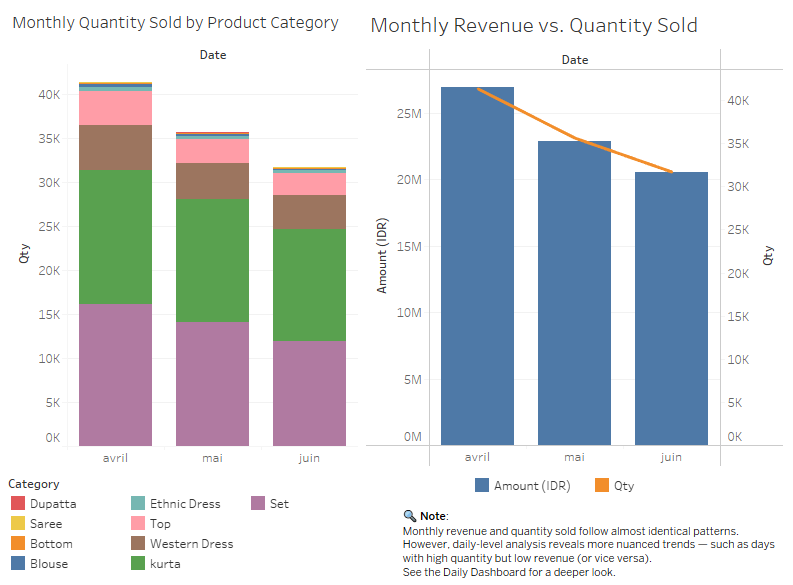

Layout of this report page (visuals, bound fields, positions):
{"tool":"tableau","page":{"name":"Monthly overview","canvas":[800,600],"ordinal":3},"visuals":[{"type":"worksheet","title":"Monthly Quantity Sold by Product Category","mark":"Bar","rows":["Qty"],"cols":["Date"],"box":[8,8,358,469]},{"type":"worksheet","title":"Monthly Revenue vs. Quantity Sold","mark":"Bar","rows":["Amount (IDR)","Qty"],"cols":["Date"],"box":[366,8,426,469]},{"type":"legend","title":"Monthly Quantity Sold by Product Category","param":"[federated.0rhn1sm10agrzr14pp34g1ljm6ut].[none:Category:nk]","box":[8,477,392,115]},{"type":"legend","title":"Monthly Revenue vs. Quantity Sold","param":"[federated.0rhn1sm10agrzr14pp34g1ljm6ut].[:Measure Names]","box":[400,477,392,32]},{"type":"text","box":[400,509,392,83]}]}

Visuals, with their boxes in screenshot pixels (x1, y1, x2, y2), scaled from the page's 800x600 canvas onto the 793x585 screenshot:
"Monthly Quantity Sold by Product Category" worksheet (Bar marks): x1=8 y1=8 x2=363 y2=465
"Monthly Revenue vs. Quantity Sold" worksheet (Bar marks): x1=363 y1=8 x2=785 y2=465
"Monthly Quantity Sold by Product Category" legend: x1=8 y1=465 x2=396 y2=577
"Monthly Revenue vs. Quantity Sold" legend: x1=396 y1=465 x2=785 y2=496
text: x1=396 y1=496 x2=785 y2=577
